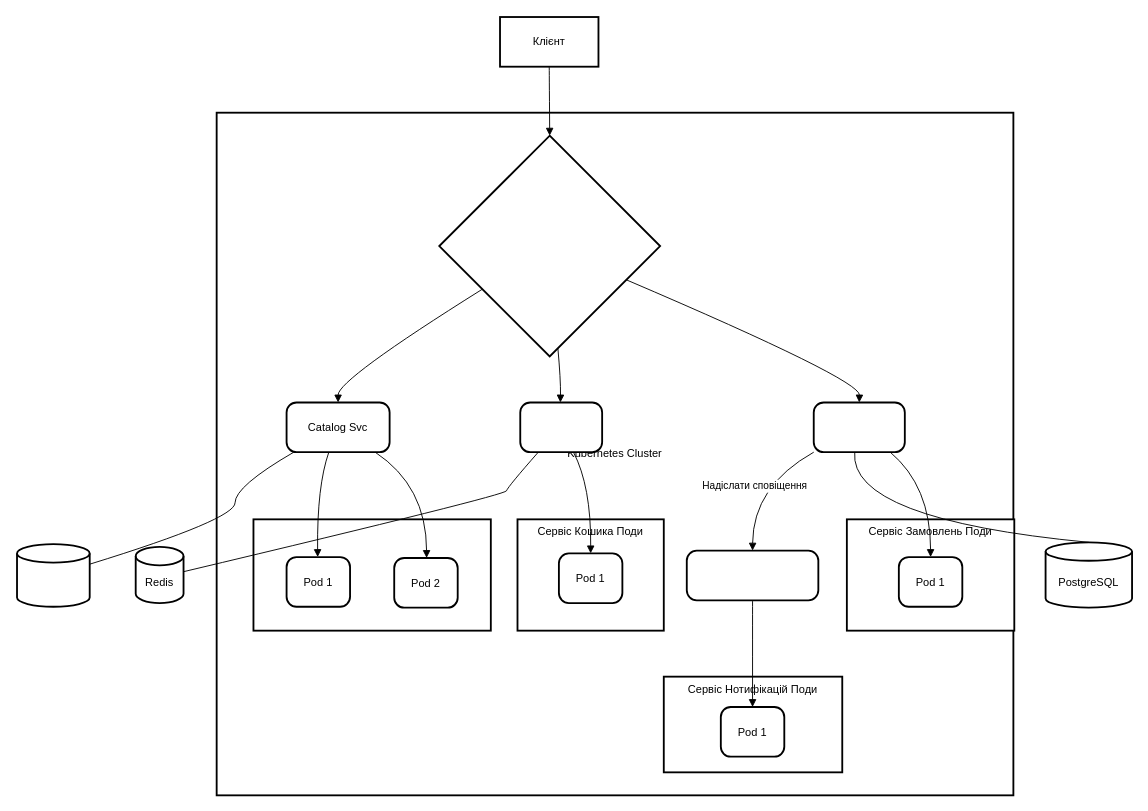
Some shapes in this 1148 by 811 pixel diagram are drawn without their labels. The shapes that lost their labels are listed below. From the top down, each one's box as (x1, y1, x2, y2) in pixels, then its label:
(438, 134, 661, 357): API Gateway / K8s Ingress
(519, 401, 603, 453): Cart Svc
(812, 401, 905, 453): Order Svc
(16, 543, 90, 607): MongoDB
(252, 518, 491, 631): Сервіс Каталогу Поди
(685, 549, 819, 601): Notification Svc
